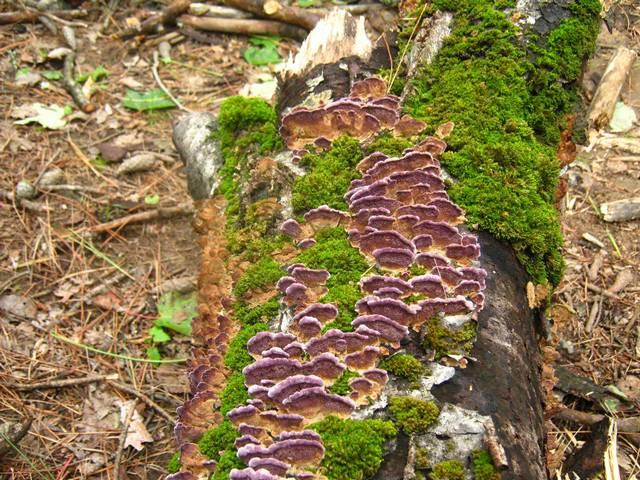Non-edible Mushroom: (221, 72, 487, 479)
